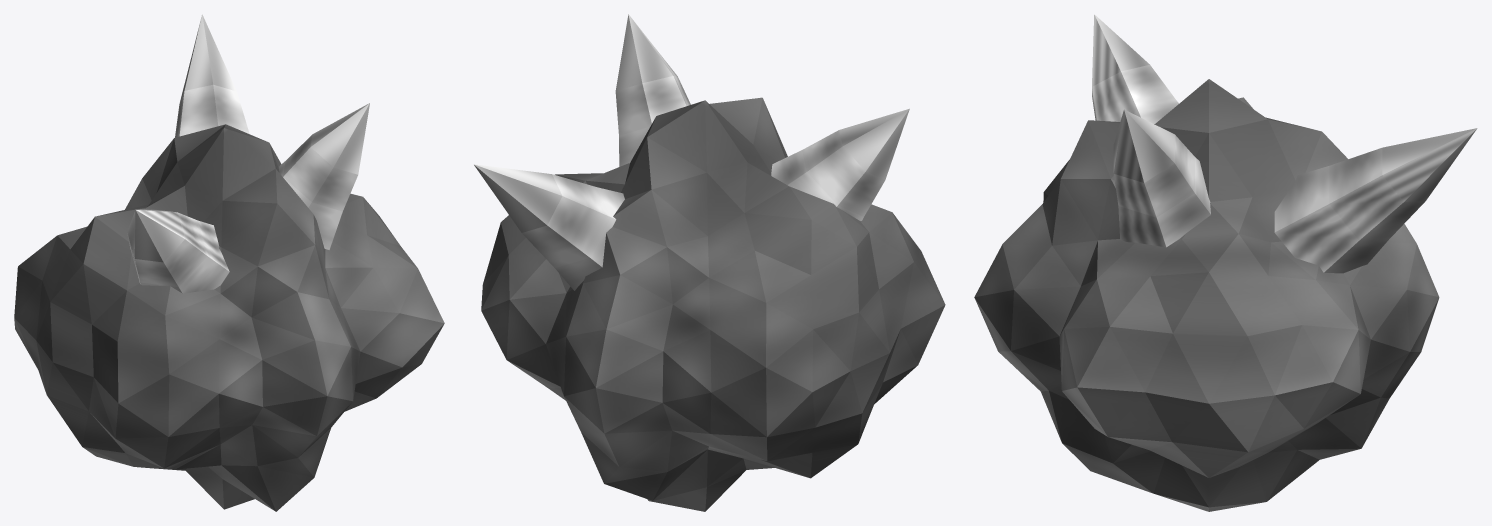
The model's file is earth-rough.glb.
3 renders of one model, left to right at view 1: azimuth 30°, elevation 25°; view 2: azimuth 150°, elevation 25°; view 3: azimuth 270°, elevation 25°, orthographic. The views are drawn at different scales.
Parts seen in each view (by area): view 1: earth-rough; view 2: earth-rough; view 3: earth-rough.
Boxes of the visible parts, left/top/right/bottom form: earth-rough: left=14, top=14, right=444, bottom=511; earth-rough: left=474, top=14, right=945, bottom=511; earth-rough: left=974, top=14, right=1477, bottom=511.
Size of the model in its own units: 0.2209 by 0.2368 by 0.2335.
Materials: 1 (1 with a texture image).
